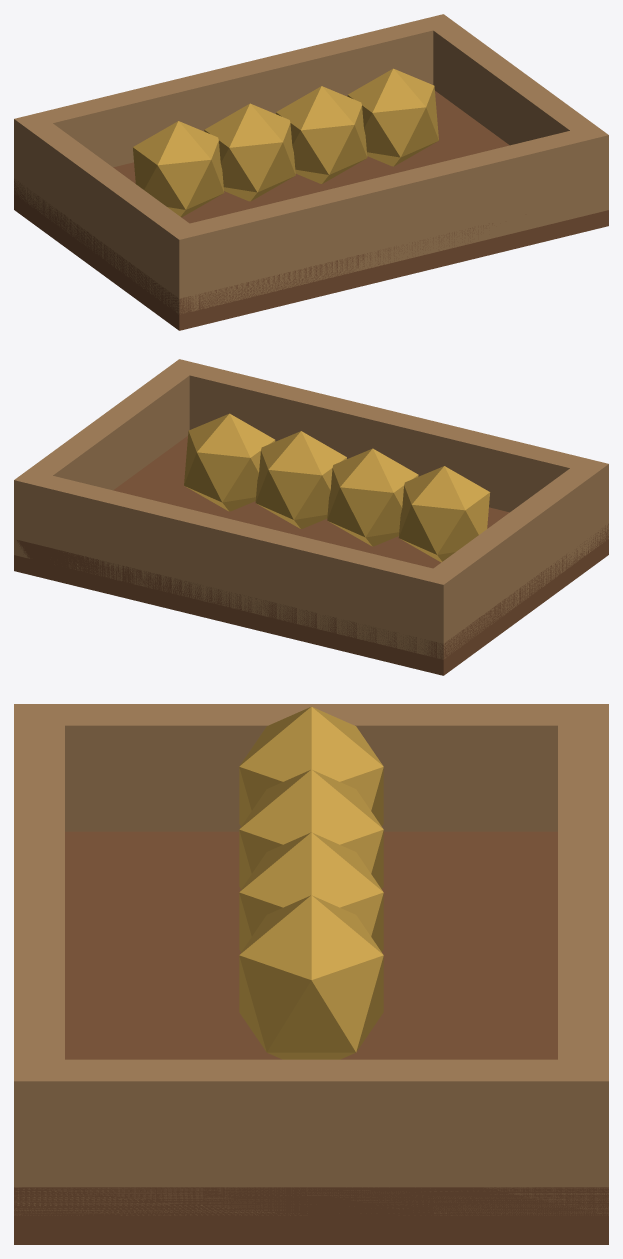
The model's file is set_bread_loaf.glb.
3 views of the same model, one above another, from view 1: azimuth 30°, elevation 25°; view 2: azimuth 150°, elevation 25°; view 3: azimuth 270°, elevation 25° (orthographic). The views are drawn at different scales.
Visible parts, largest first — view 1: set_bread_loaf; view 2: set_bread_loaf; view 3: set_bread_loaf.
Part boxes in pixels (x1,y1,x2,y2): set_bread_loaf: [14, 14, 608, 330]; set_bread_loaf: [14, 359, 608, 675]; set_bread_loaf: [14, 704, 608, 1244].
Size of the model in its own units: 0.42 by 0.121 by 0.28.
